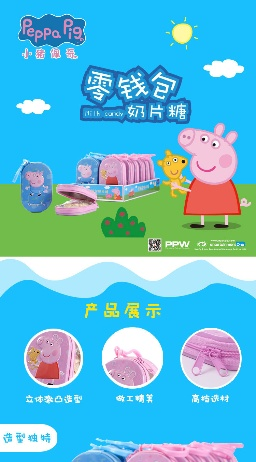Peppa: (176, 123, 246, 230), (33, 333, 67, 387)
